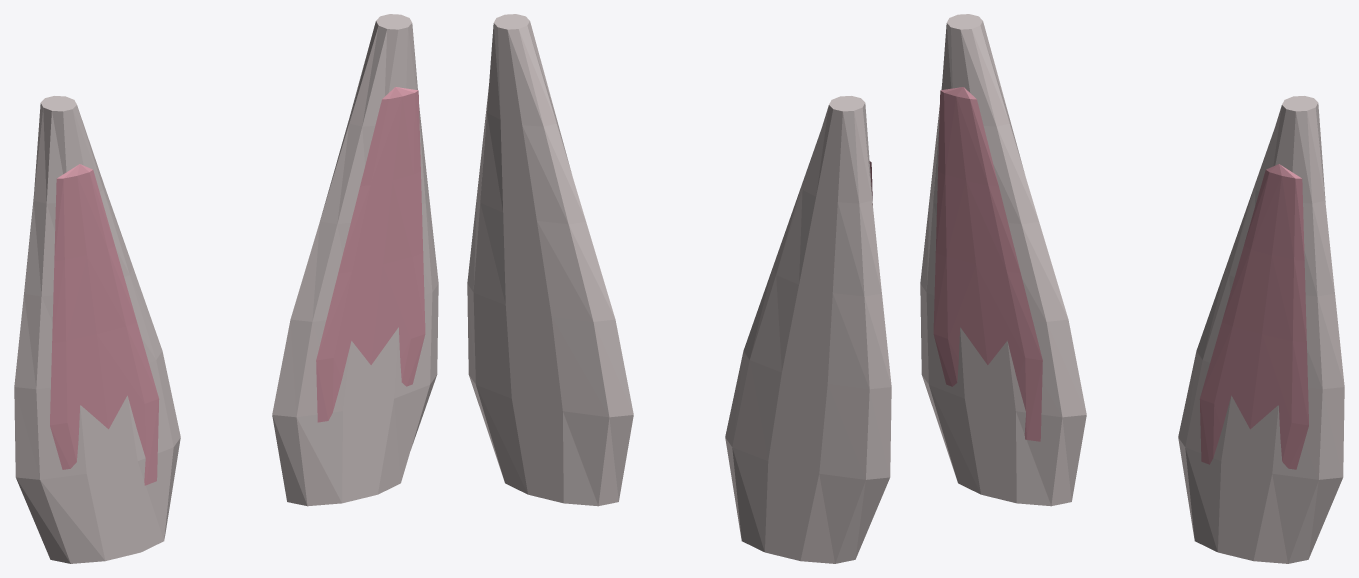
The model's file is Bunny_Ears.glb.
The picture shows the model from 3 angles, left to right: view 1: azimuth 30°, elevation 25°; view 2: azimuth 150°, elevation 25°; view 3: azimuth 330°, elevation 25°; orthographic projection.
Parts seen in each view (by area): view 1: Bunny_Ears_Merged; view 2: Bunny_Ears_Merged; view 3: Bunny_Ears_Merged.
Part boxes in pixels (x1,y1,x2,y2): Bunny_Ears_Merged: (14, 14, 438, 563); Bunny_Ears_Merged: (467, 14, 891, 563); Bunny_Ears_Merged: (920, 14, 1344, 563).
Size of the model in its own units: 0.2151 by 0.22 by 0.0266.
